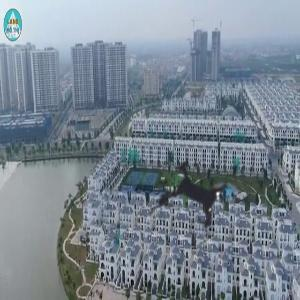drone: (119, 125, 269, 275)
